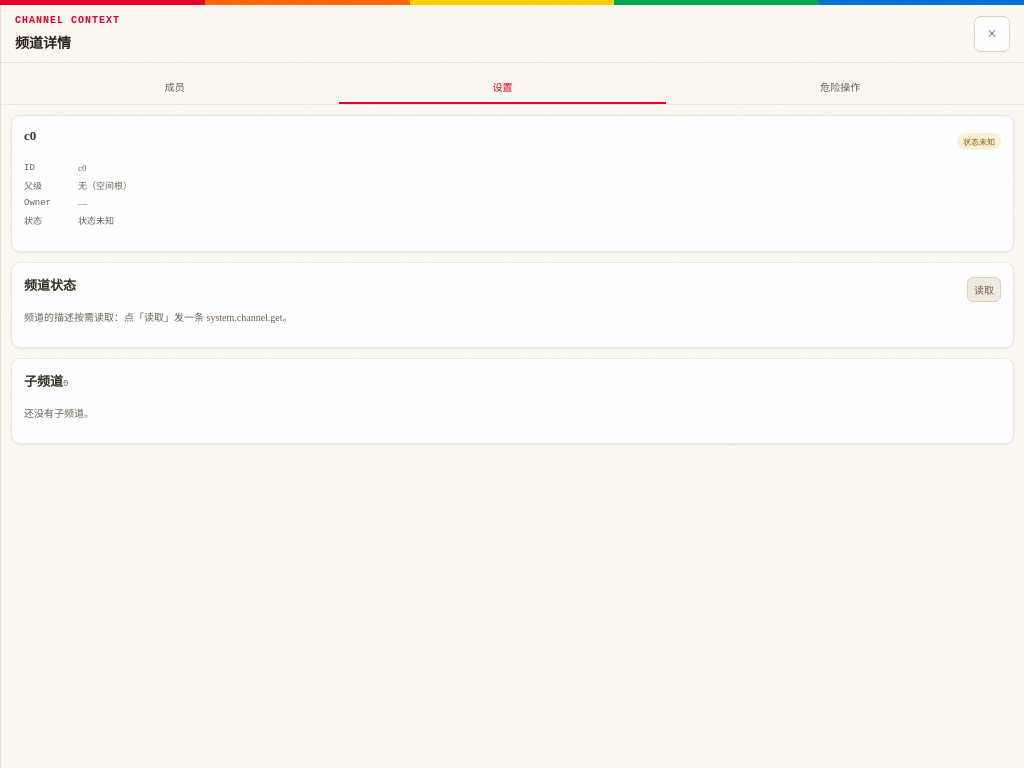
Scenario: Governance UI owner contracts › reads a read-only description from the description itself, and offers no form to change it
Click the button "读取" at [984, 290], box [967,277,1001,302]
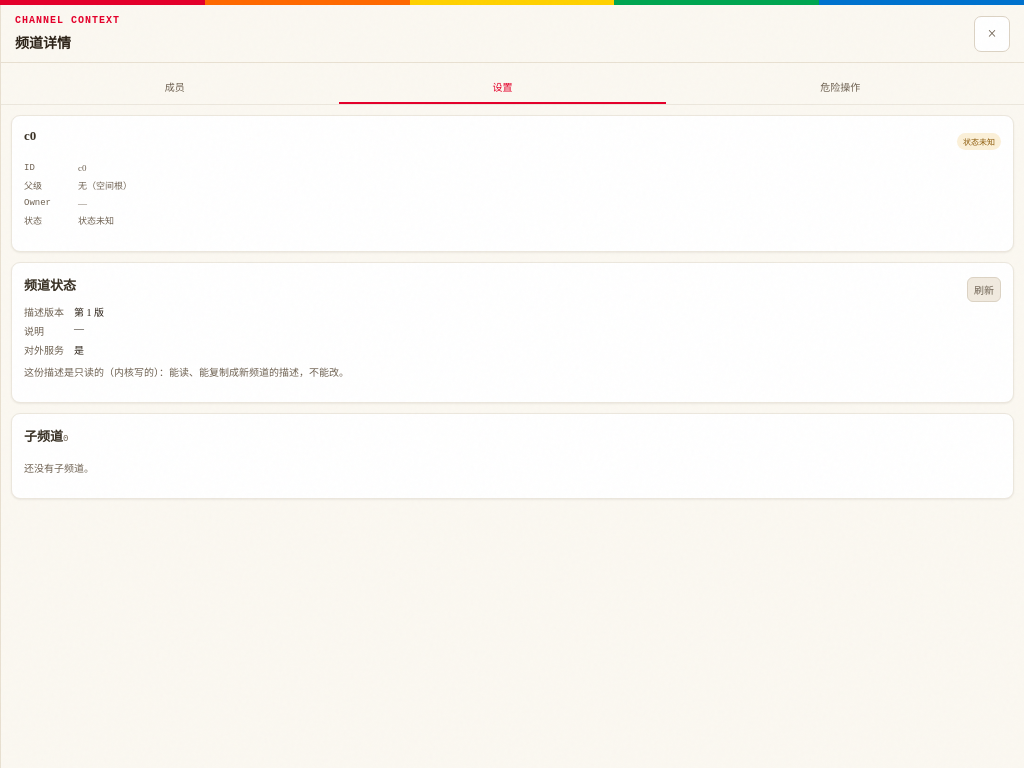
Now the text "这份描述是只读的（内核写的）：能读、能复制成新频道的描述，不能改。" is shown, box [24,367,349,378]
Now the text "第 1 版" is shown, box [74,307,104,318]
